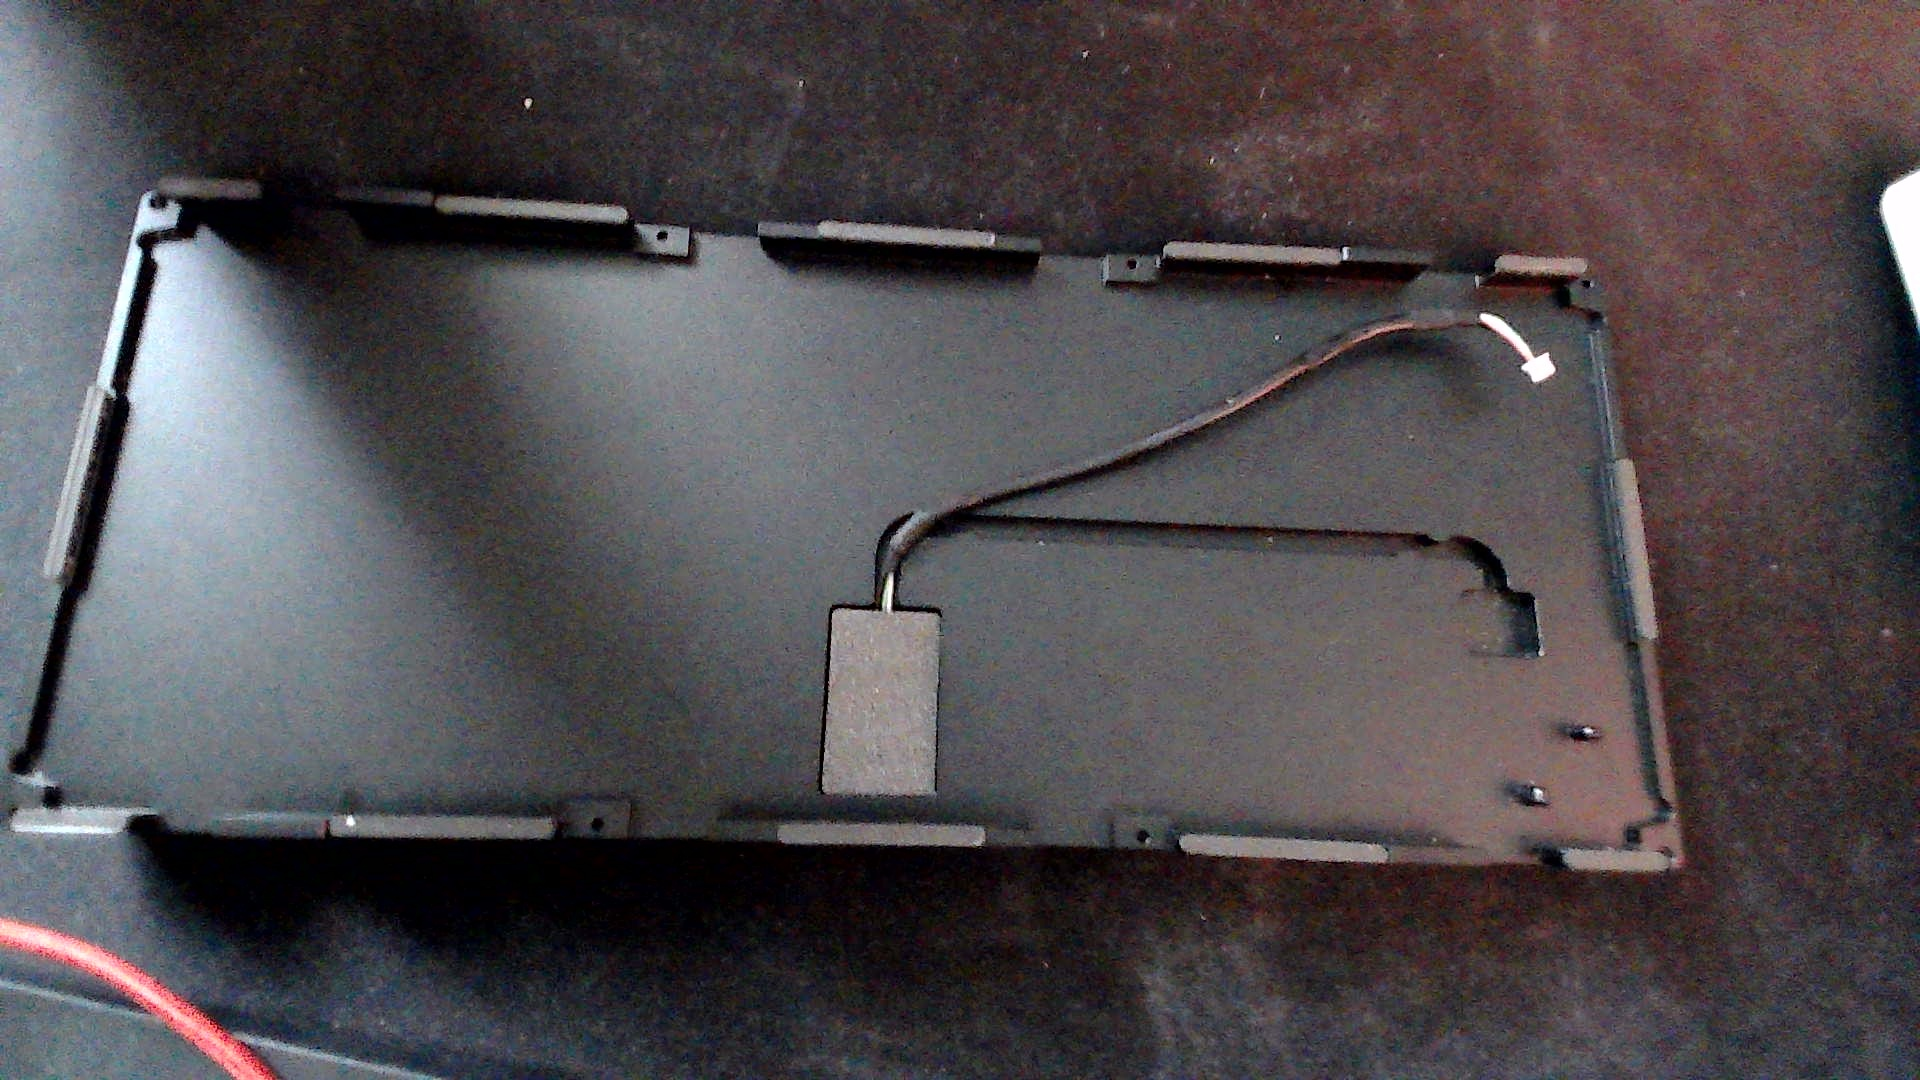case: (0, 144, 1709, 884)
